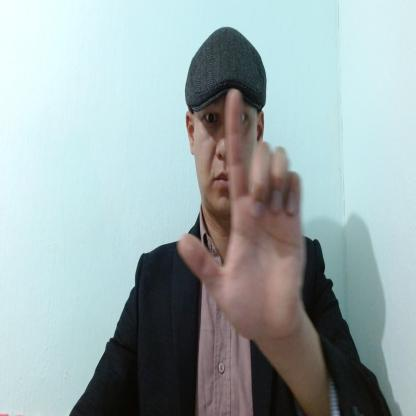L: (178, 90, 304, 338)
